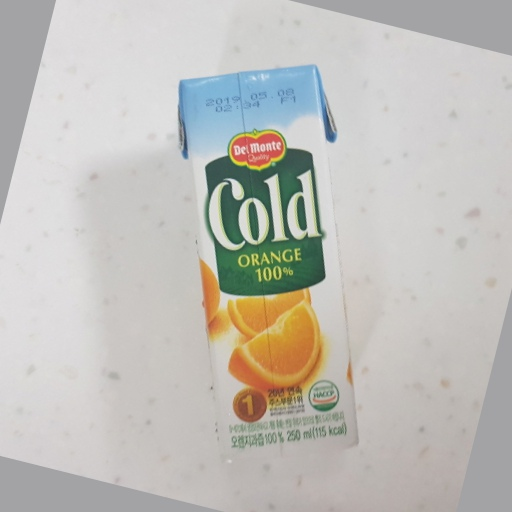Paper_0: (164, 57, 374, 463)
